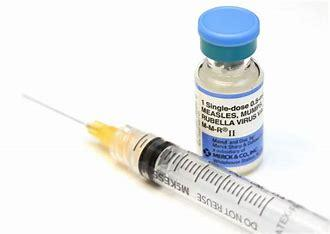Syringe: (10, 90, 330, 234), (184, 5, 278, 176)
